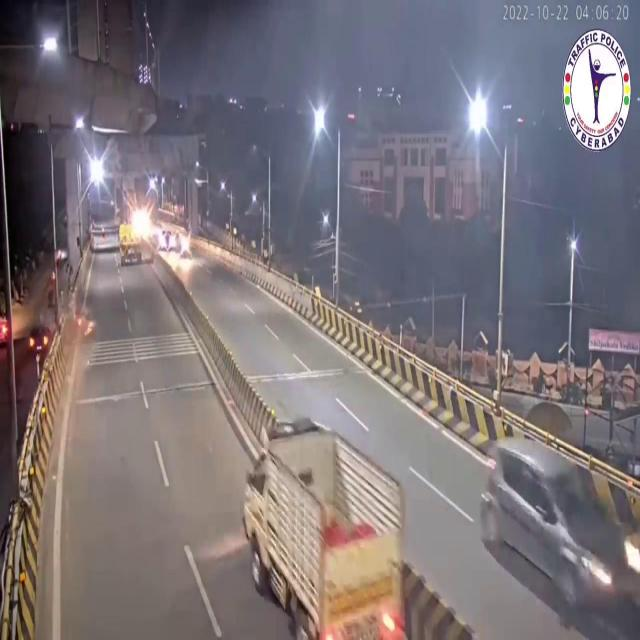accident: (63, 289, 99, 345)
